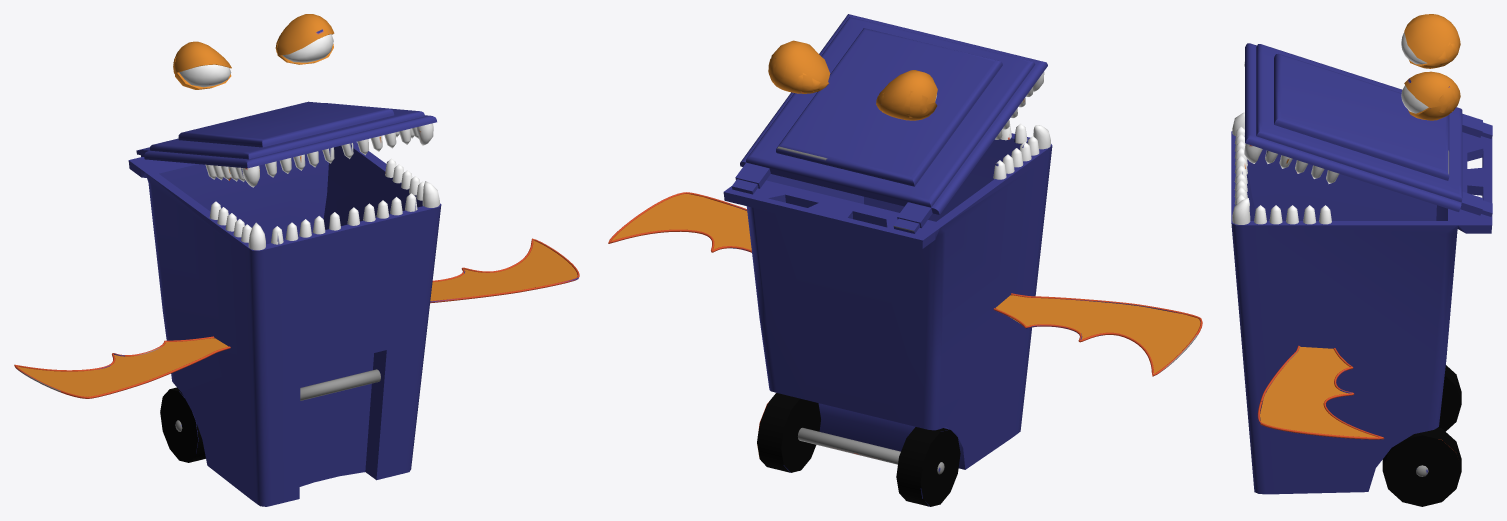
The model's file is binmonster.fbx.
3 renders of one model, left to right at view 1: azimuth 30°, elevation 25°; view 2: azimuth 150°, elevation 25°; view 3: azimuth 270°, elevation 25°, orthographic. The views are drawn at different scales.
Parts seen in each view (by area): view 1: Cube, Plane, Plane.002, Cylinder.004, Plane.001, Cylinder.005, Cylinder.001, Sphere.003, Sphere.001, BezierCurve.001, Cylinder.003, Sphere.002 (+2 smaller); view 2: Cube, Plane, Plane.002, Plane.001, Cylinder.001, Cylinder, Sphere.003, Sphere.001, Cylinder.004, Cylinder.002, BezierCurve.001, BezierCurve; view 3: Cube, Plane, Plane.001, Cylinder, Cylinder.004, Sphere.001, Sphere.003, BezierCurve, Cylinder.001, Cylinder.005, Sphere.
Boxes of the visible parts, x1=… form: Cube: x1=128, y1=142, x2=441, y2=506; Plane: x1=136, y1=101, x2=436, y2=168; Plane.002: x1=17, y1=338, x2=228, y2=396; Cylinder.004: x1=209, y1=158, x2=439, y2=250; Plane.001: x1=430, y1=240, x2=577, y2=300; Cylinder.005: x1=205, y1=123, x2=433, y2=187; Cylinder.001: x1=160, y1=387, x2=205, y2=462; Sphere.003: x1=275, y1=14, x2=334, y2=64; Sphere.001: x1=173, y1=41, x2=231, y2=89; BezierCurve.001: x1=14, y1=336, x2=230, y2=398; Cylinder.003: x1=300, y1=369, x2=380, y2=400; Sphere.002: x1=179, y1=64, x2=231, y2=87; Cube: x1=723, y1=133, x2=1052, y2=469; Plane: x1=732, y1=14, x2=1047, y2=233; Plane.002: x1=996, y1=295, x2=1200, y2=373; Plane.001: x1=611, y1=194, x2=751, y2=250; Cylinder.001: x1=896, y1=427, x2=960, y2=506; Cylinder: x1=757, y1=393, x2=820, y2=472; Sphere.003: x1=768, y1=40, x2=830, y2=93; Sphere.001: x1=876, y1=70, x2=937, y2=120; Cylinder.004: x1=993, y1=123, x2=1050, y2=179; Cylinder.002: x1=797, y1=427, x2=944, y2=474; BezierCurve.001: x1=993, y1=293, x2=1202, y2=376; BezierCurve: x1=608, y1=192, x2=751, y2=252; Cube: x1=1231, y1=131, x2=1492, y2=494; Plane: x1=1245, y1=43, x2=1492, y2=216; Plane.001: x1=1260, y1=346, x2=1377, y2=437; Cylinder: x1=1382, y1=427, x2=1461, y2=506; Cylinder.004: x1=1232, y1=112, x2=1331, y2=224; Sphere.001: x1=1404, y1=14, x2=1460, y2=68; Sphere.003: x1=1404, y1=71, x2=1460, y2=120; BezierCurve: x1=1257, y1=345, x2=1384, y2=439; Cylinder.001: x1=1438, y1=365, x2=1461, y2=431; Cylinder.005: x1=1244, y1=62, x2=1339, y2=183; Sphere: x1=1401, y1=85, x2=1428, y2=113.
Size of the model in its own units: 553 by 412 by 230.
1 material, 1 textured.
